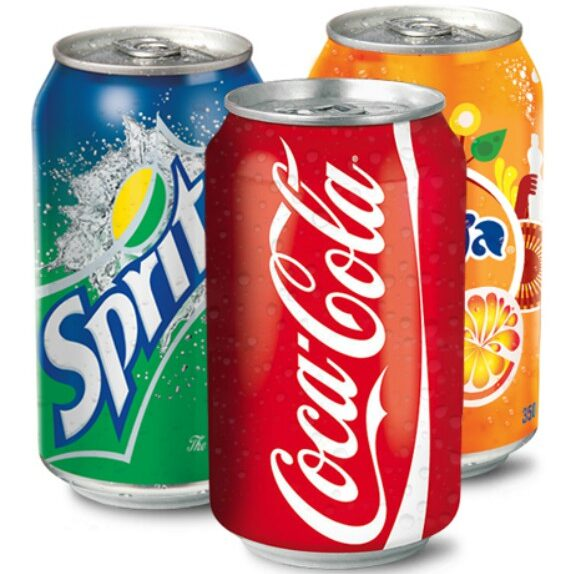cylinder: (205, 78, 466, 570), (31, 25, 264, 510), (307, 6, 543, 480)
